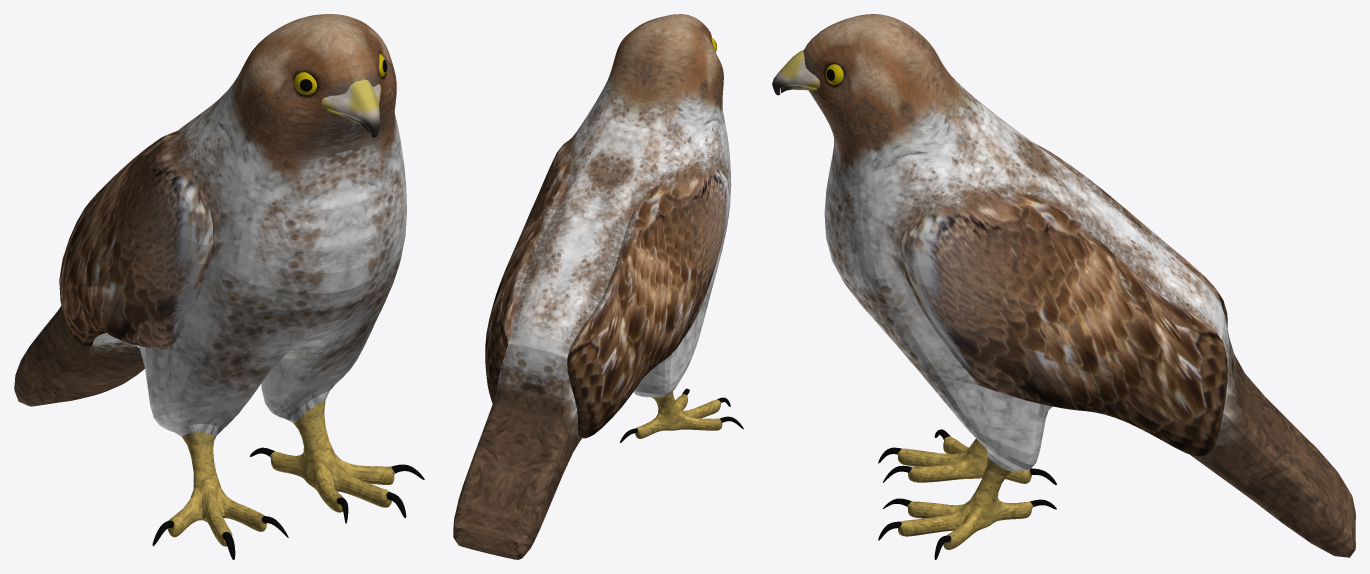
The model's file is Gavilán coli rojo.glb.
The picture shows the model from 3 angles, left to right: view 1: azimuth 30°, elevation 25°; view 2: azimuth 150°, elevation 25°; view 3: azimuth 270°, elevation 25°; orthographic projection. The views are drawn at different scales.
Visible parts, largest first — view 1: Buteo jamaicensis; view 2: Buteo jamaicensis; view 3: Buteo jamaicensis.
Part boxes in pixels (left/top/right/bottom): Buteo jamaicensis: left=14, top=14, right=424, bottom=559; Buteo jamaicensis: left=453, top=14, right=743, bottom=559; Buteo jamaicensis: left=772, top=14, right=1355, bottom=559.
Bounding box in the file's own units: 3.62 × 7.18 × 7.31.
Materials: 2 (2 with a texture image).
